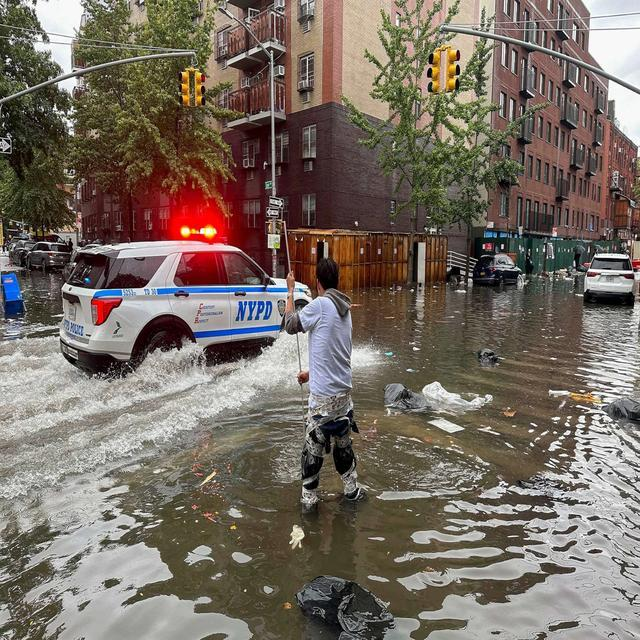Car-RiskLevel2: (52, 224, 317, 378), (576, 242, 640, 310)
Person-RiskLevel2: (284, 254, 378, 515)
